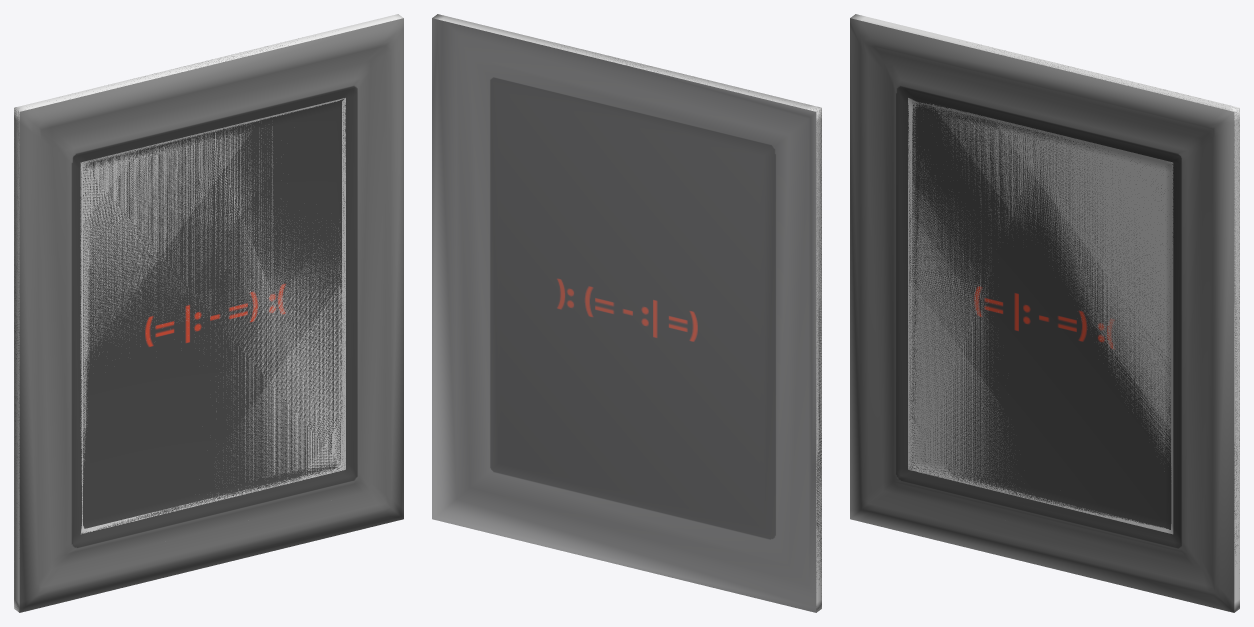
File: Wall_screen_used.glb
3 views of the same model, side by side, from view 1: azimuth 30°, elevation 25°; view 2: azimuth 150°, elevation 25°; view 3: azimuth 330°, elevation 25° (orthographic).
Visible parts, largest first — view 1: Plane.001, Plane; view 2: Plane, Plane.001; view 3: Plane.001, Plane.
Part boxes in pixels (<box>): Plane.001: <box>14,14,403,612</box>; Plane: <box>14,18,403,612</box>; Plane: <box>432,18,821,612</box>; Plane.001: <box>432,14,821,612</box>; Plane.001: <box>850,14,1239,612</box>; Plane: <box>850,18,1239,612</box>.
Size of the model in its own units: 0.4001 by 0.4987 by 0.0158.
Materials: 1 (1 with a texture image).
